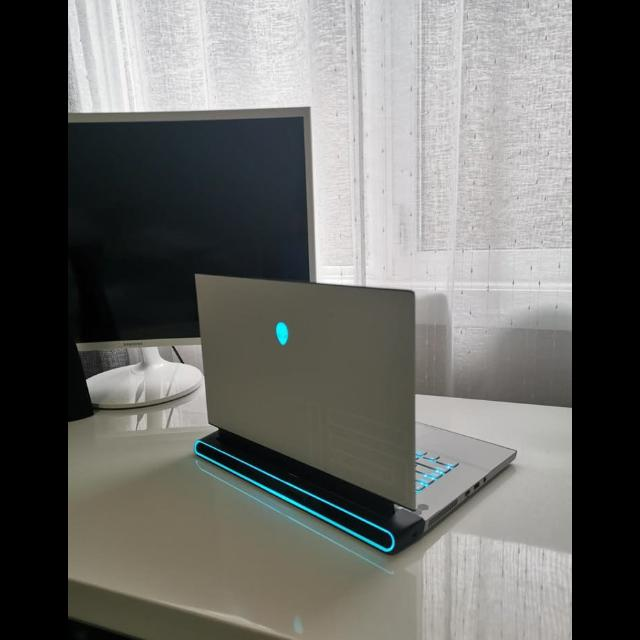laptop: (194, 274, 515, 554)
